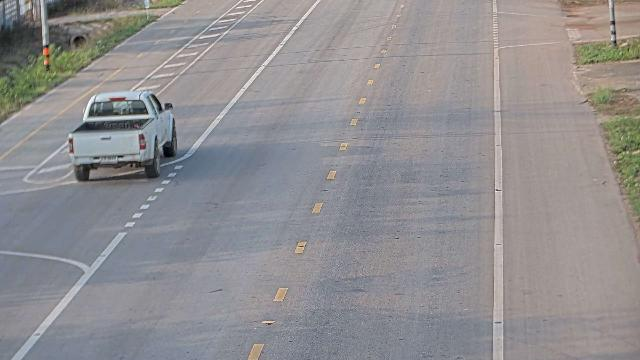pickup-truck: (67, 89, 178, 181)
